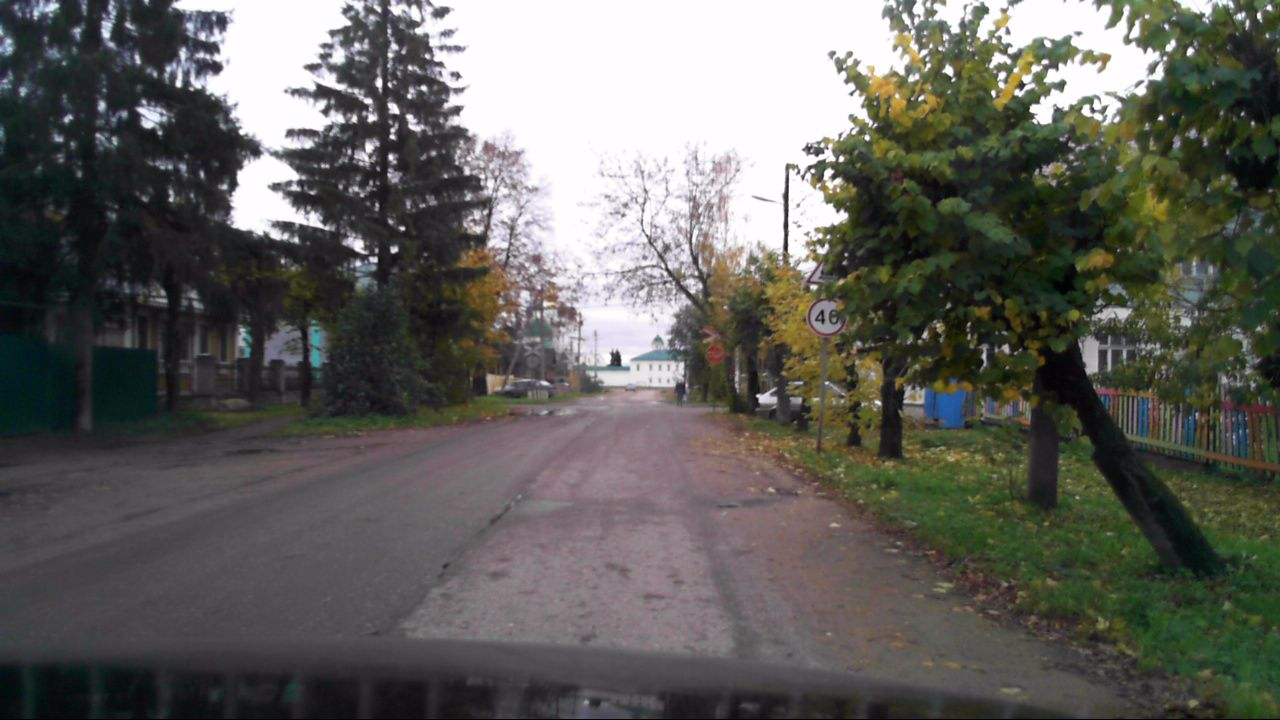speed_warning_40: (807, 298, 844, 338)
